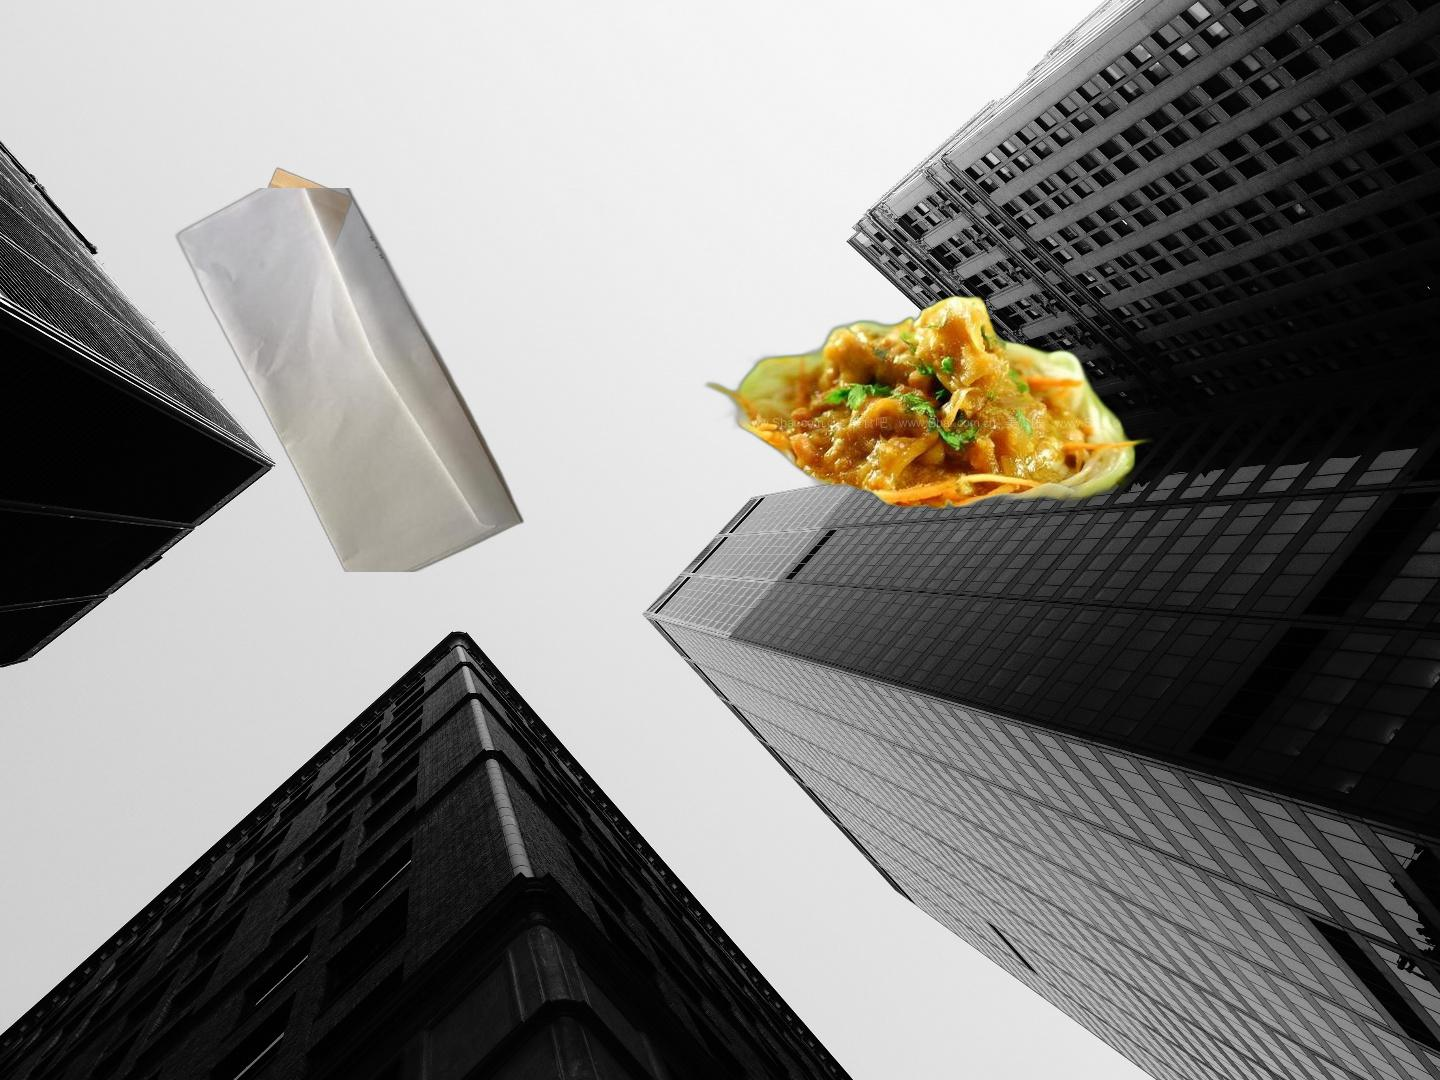biological: (701, 293, 1174, 576)
paper: (173, 188, 605, 572)
paper-bag: (238, 164, 353, 299)
